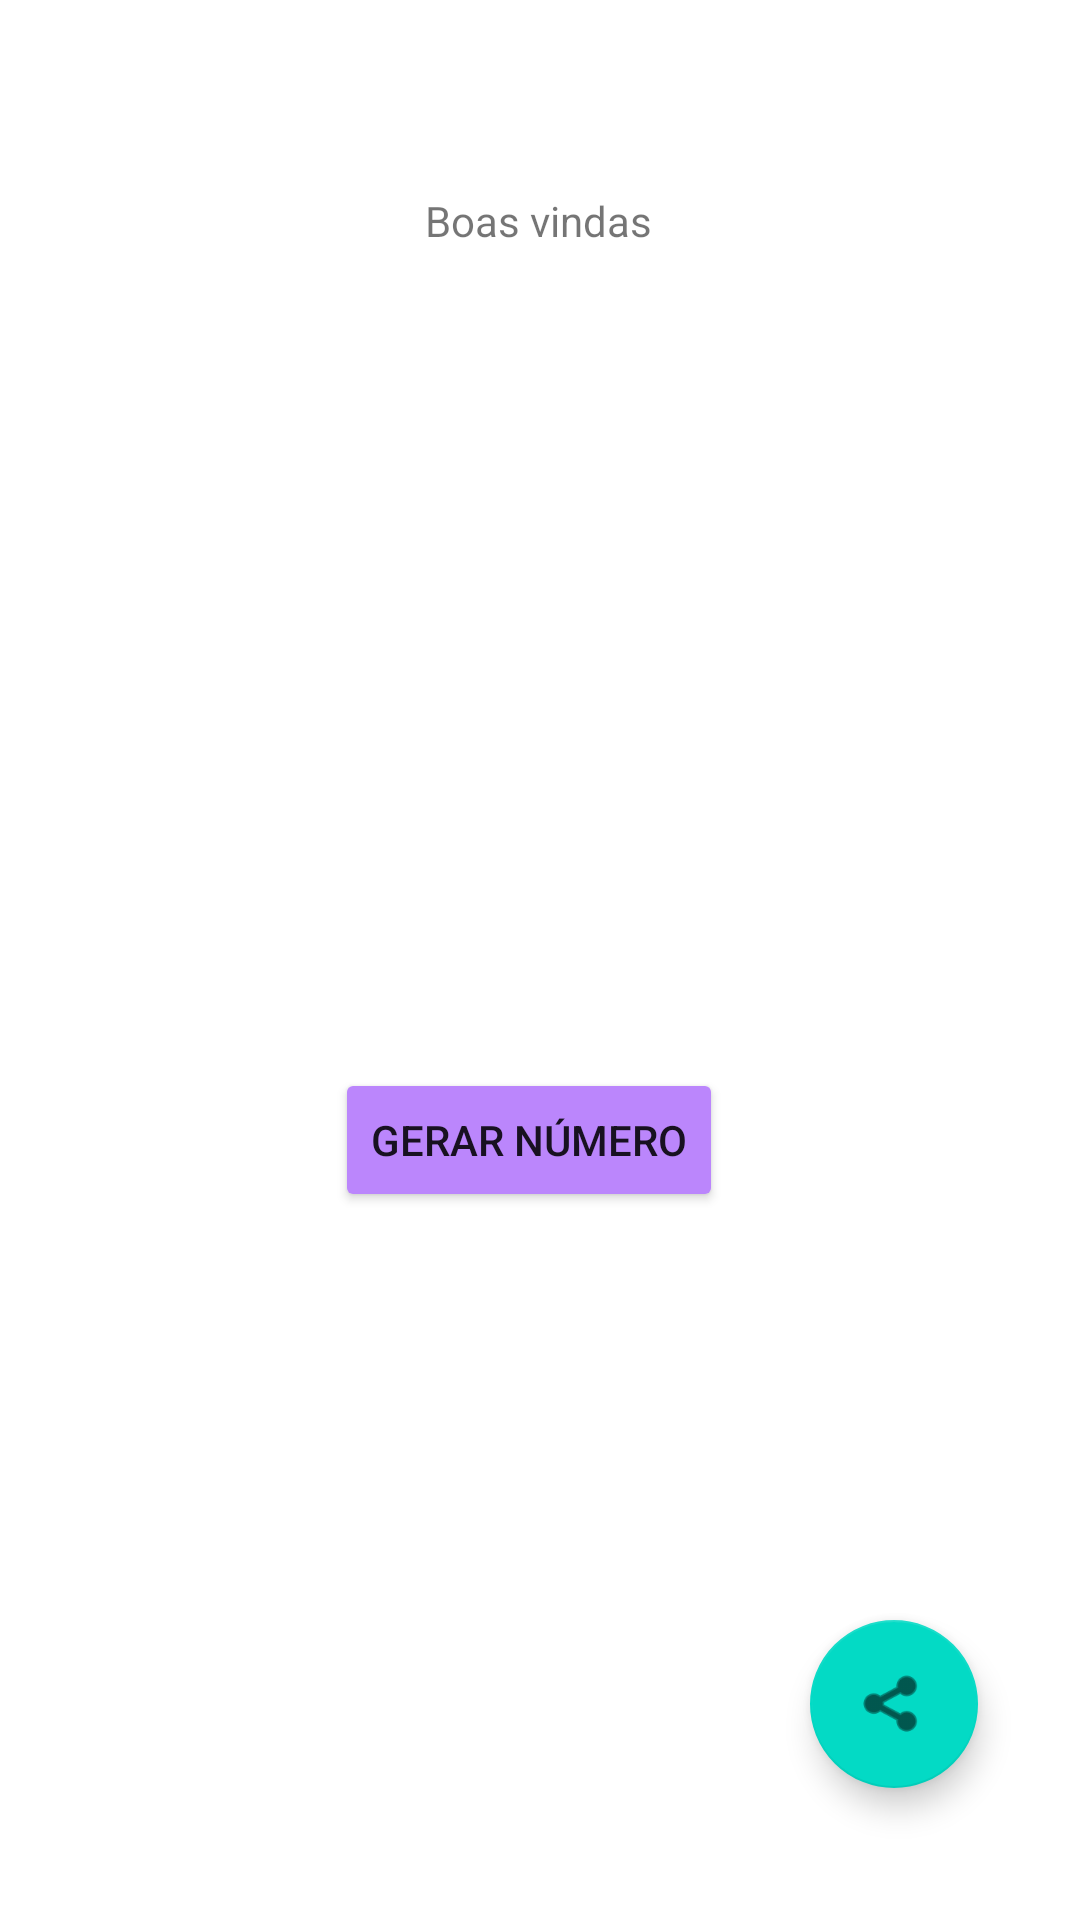

Point at icon controls on the screen. Image size 1080px x 1920px, points as (x,y).
share: (894,1704)
